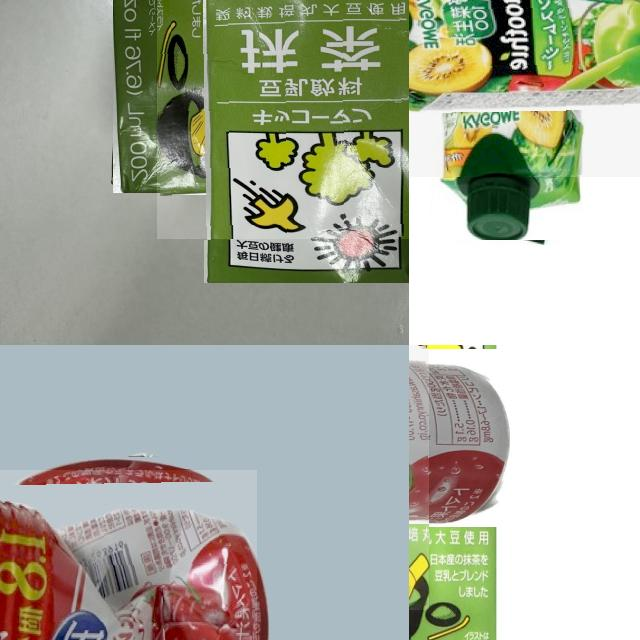Aluminium Foil: (157, 0, 409, 239), (409, 0, 640, 177), (409, 345, 501, 640)
Can: (0, 470, 257, 640)
